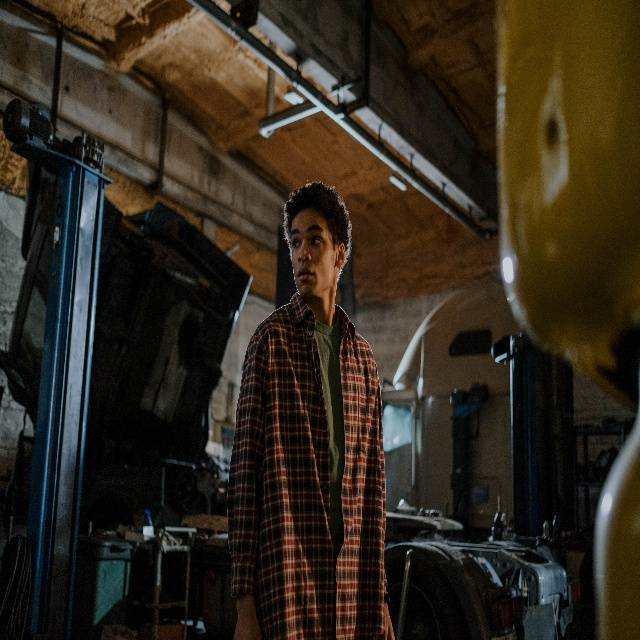Sin_guantes: (383, 611, 396, 640)
